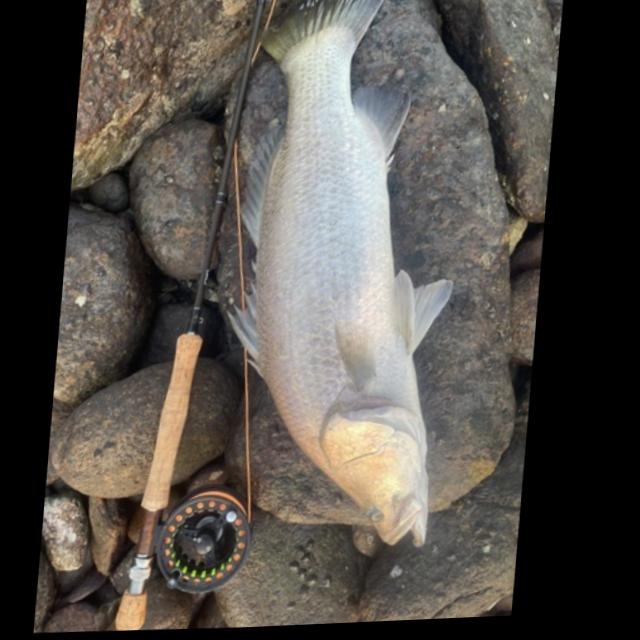Seabass: (206, 0, 477, 560)
